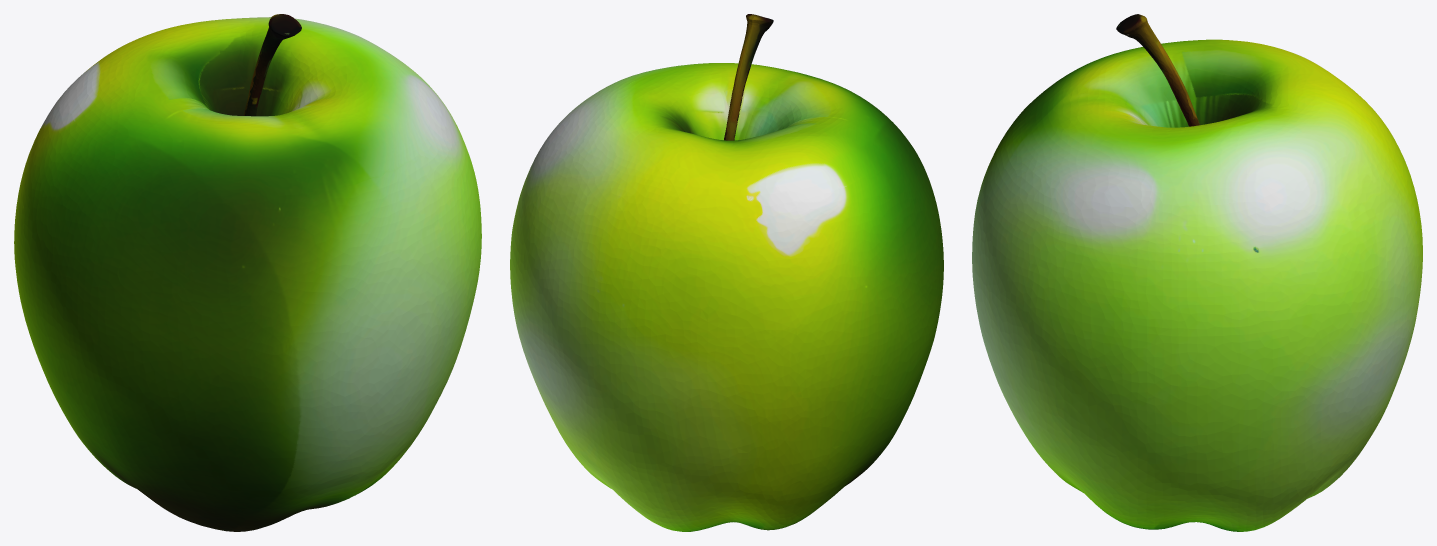
3 views of the same model, side by side, from view 1: azimuth 30°, elevation 25°; view 2: azimuth 150°, elevation 25°; view 3: azimuth 270°, elevation 25° (orthographic). The views are drawn at different scales.
Visible parts, largest first — view 1: apple2.obj; view 2: apple2.obj; view 3: apple2.obj.
Part boxes in pixels (x1,y1,x2,y2): apple2.obj: (14,14,481,531); apple2.obj: (510,14,943,531); apple2.obj: (972,14,1422,531).
Size of the model in its own units: 0.0686 by 0.08 by 0.0679.
1 material, 1 textured.
